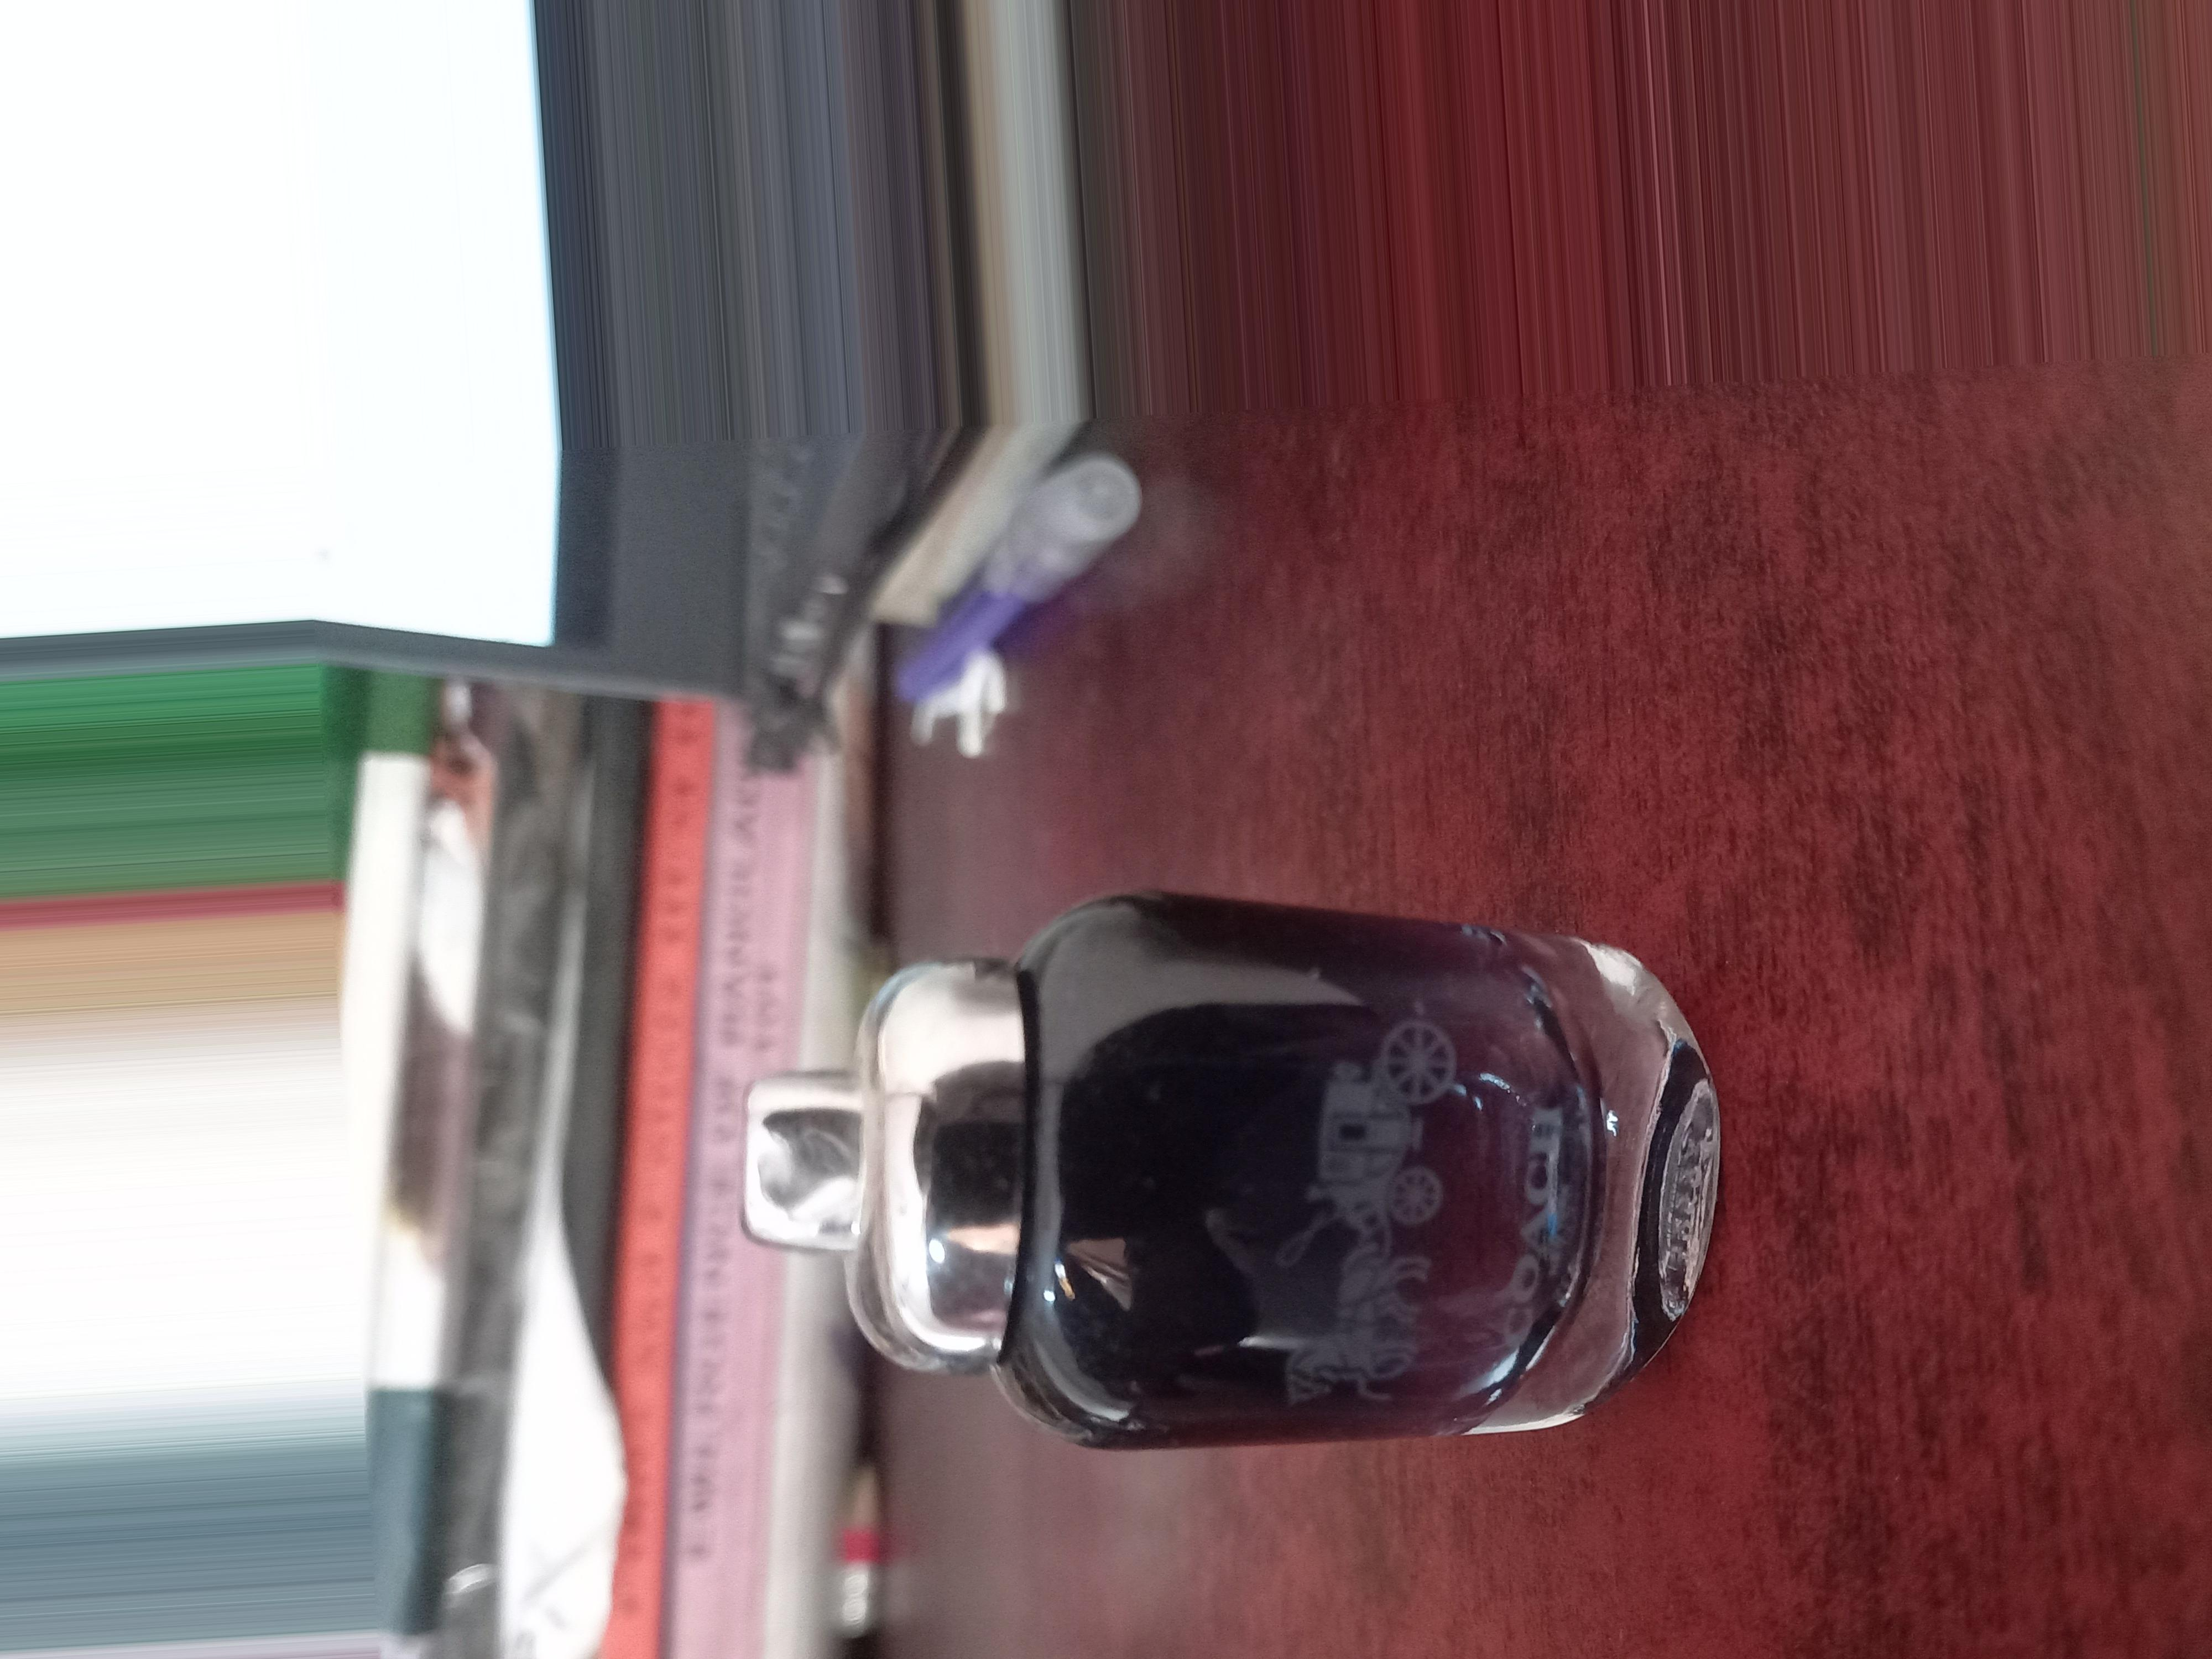perfume: (738, 828, 1740, 1459)
